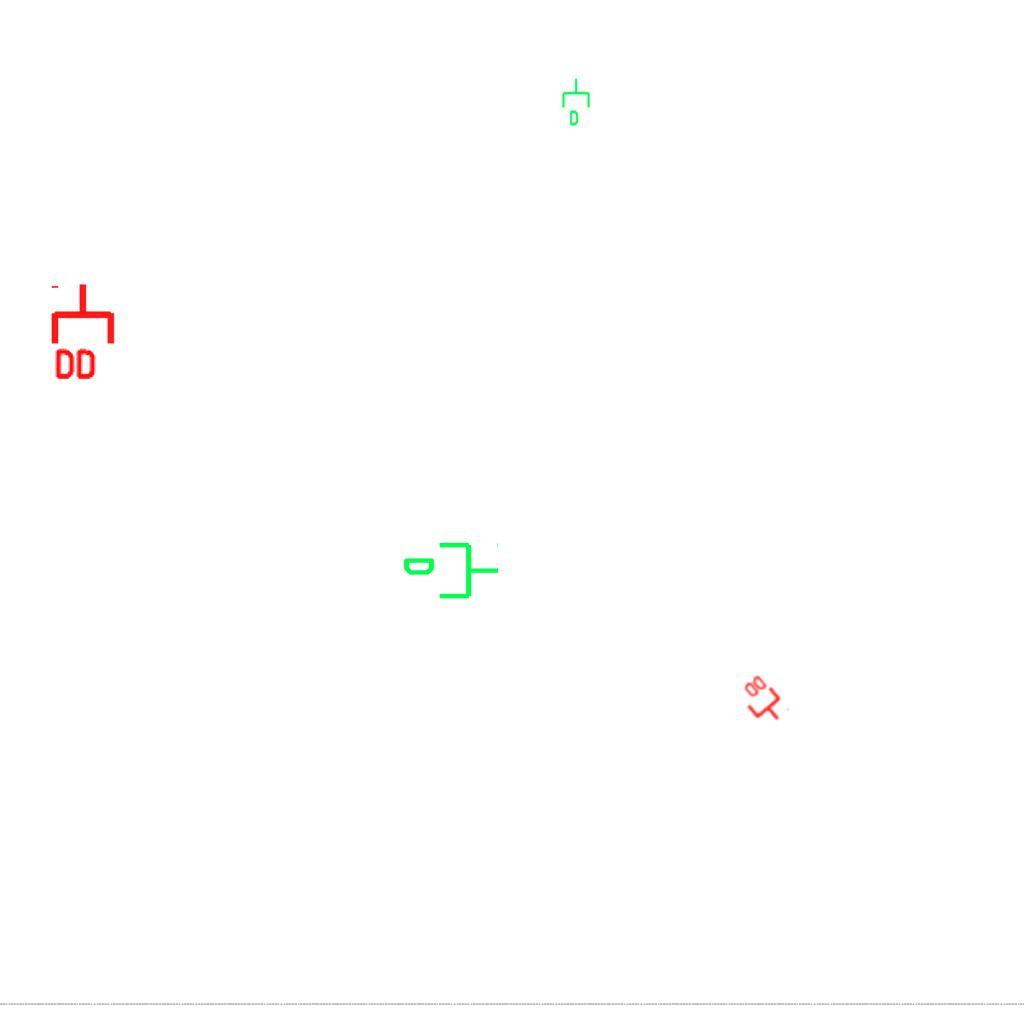Datenanschluss_einfach: (401, 538, 501, 607), (560, 77, 594, 127)
Datenanschluss_zweifach: (50, 281, 119, 384), (732, 671, 792, 732)
